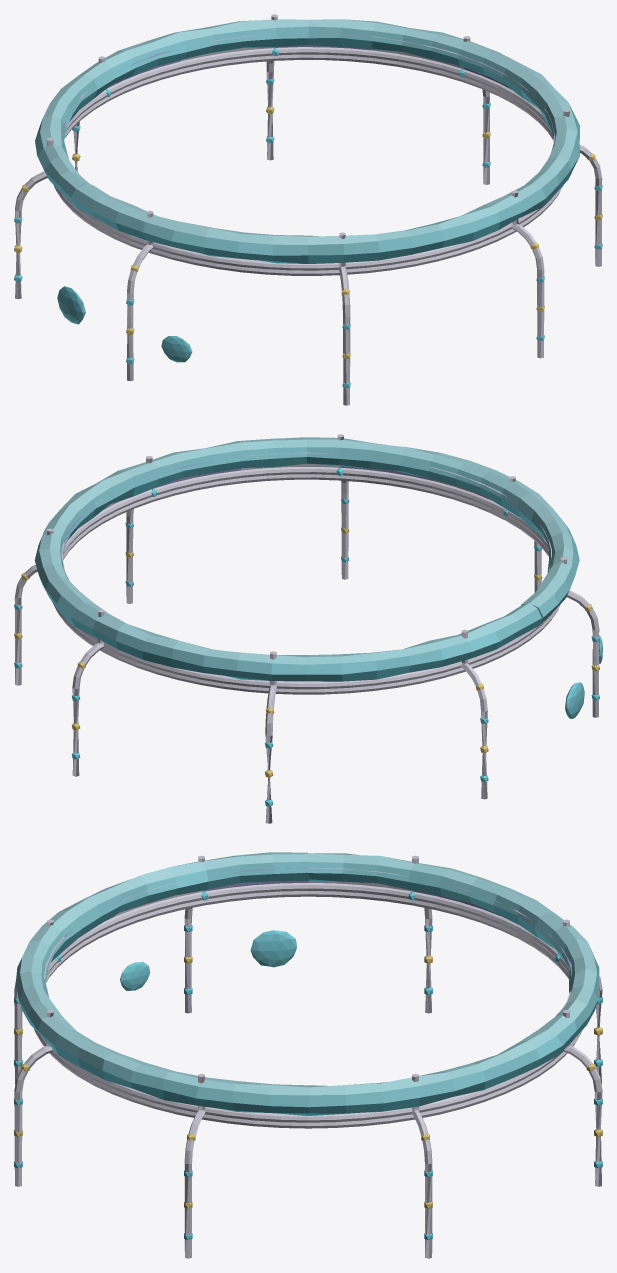
The model's file is goo_jar_trim_2_mid@space.fbx.
The picture shows the model from 3 angles, top to bottom: view 1: azimuth 30°, elevation 25°; view 2: azimuth 150°, elevation 25°; view 3: azimuth 270°, elevation 25°; orthographic projection. The views are drawn at different scales.
Parts seen in each view (by area): view 1: goo_jar_trim_2_mid; view 2: goo_jar_trim_2_mid; view 3: goo_jar_trim_2_mid.
Part boxes in pixels (box(x1,y1,x2,y2)): goo_jar_trim_2_mid: box(14, 14, 602, 405); goo_jar_trim_2_mid: box(14, 434, 602, 823); goo_jar_trim_2_mid: box(14, 852, 602, 1258).
Size of the model in its own units: 53.14 by 16.05 by 50.99.
